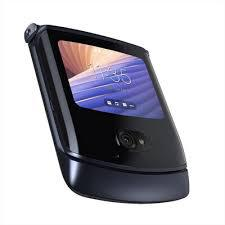Smartphone: (37, 19, 188, 193)
